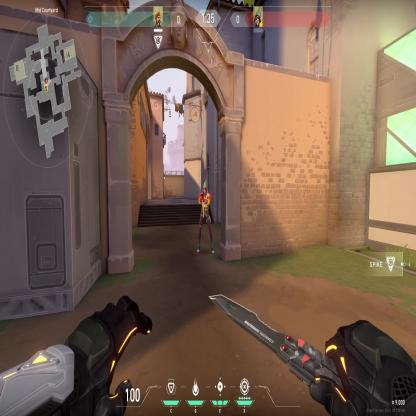enemy: (196, 181, 215, 254)
